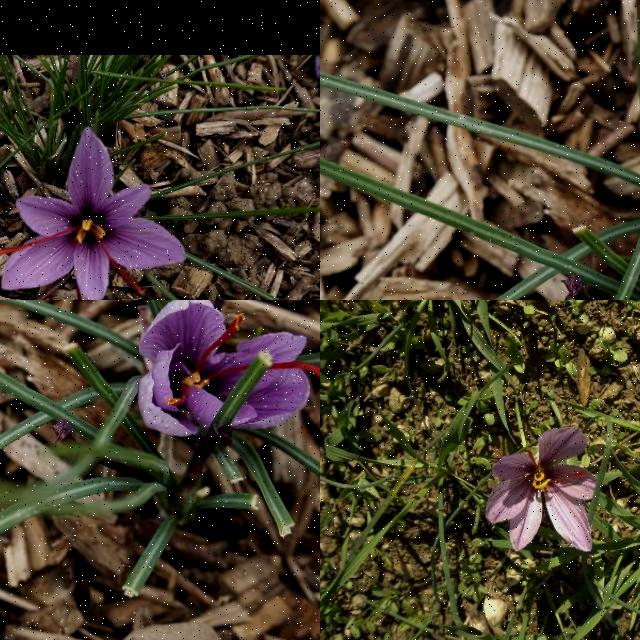flower: (0, 127, 187, 300), (138, 300, 320, 437), (487, 426, 598, 552)
